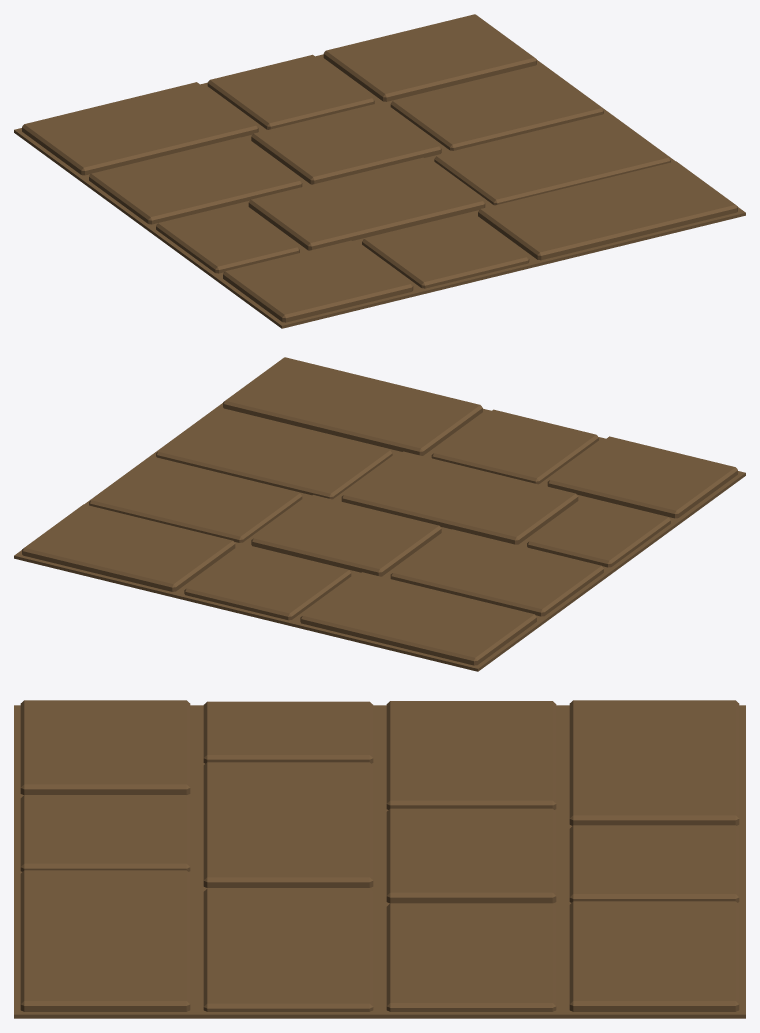
File: Flagstones.fbx
3 renders of one model, top to bottom at view 1: azimuth 30°, elevation 25°; view 2: azimuth 150°, elevation 25°; view 3: azimuth 270°, elevation 25°, orthographic. The views are drawn at different scales.
Parts seen in each view (by area): view 1: Flagstones; view 2: Flagstones; view 3: Flagstones.
Boxes of the visible parts, bbox=[...] form: Flagstones: bbox=[14, 14, 745, 328]; Flagstones: bbox=[14, 357, 745, 671]; Flagstones: bbox=[14, 700, 745, 1018].
Size of the model in its own units: 10 by 0.2 by 10.
